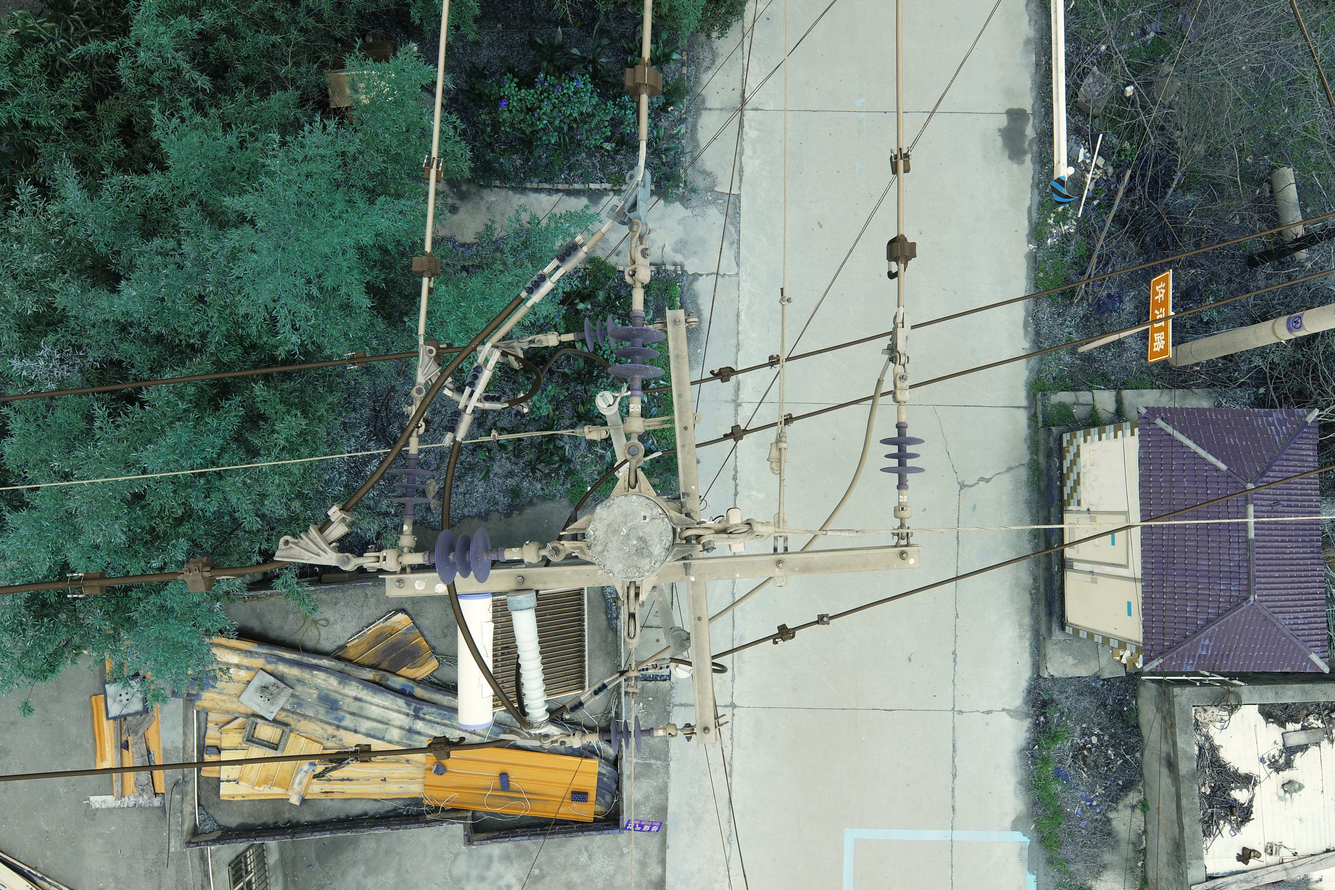severe_soiling_no_discharge_whole: (606, 307, 666, 401)
